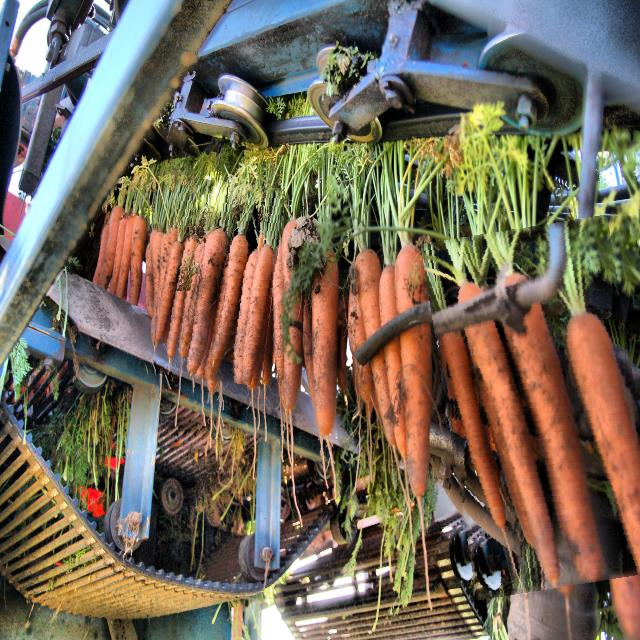carrot: (433, 220, 640, 594), (157, 178, 280, 383)
